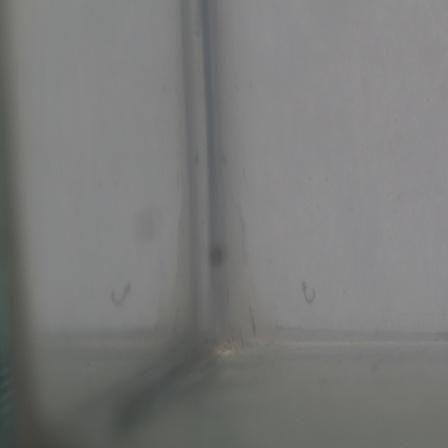Jentik-Nyamuk: (296, 276, 321, 307)
